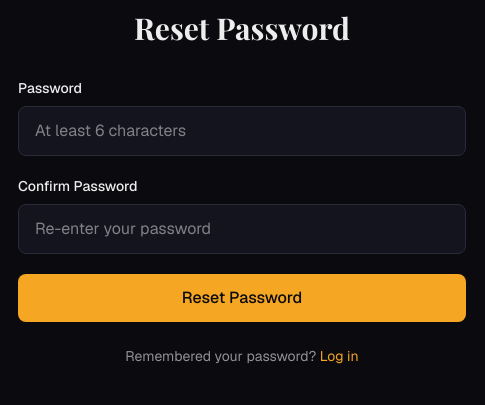
it: ResetPasswordPage › shows validation error for short password
Type "12345" into the password field labelled "Password" at (242, 131), box [18, 106, 466, 156]
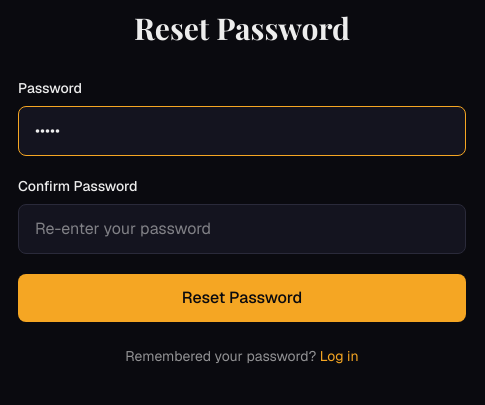
Type "12345" into the password field labelled "Confirm Password" at (242, 229), box [18, 204, 466, 254]
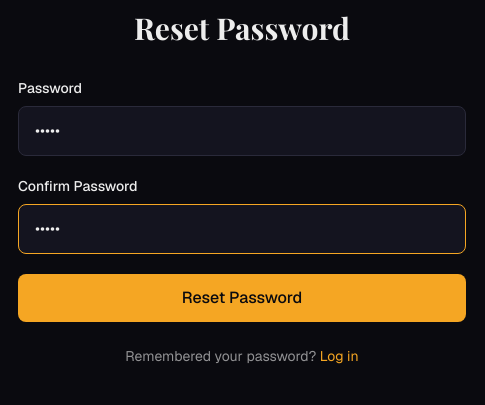
Click the button "Reset Password" at (242, 298), box [18, 274, 466, 322]
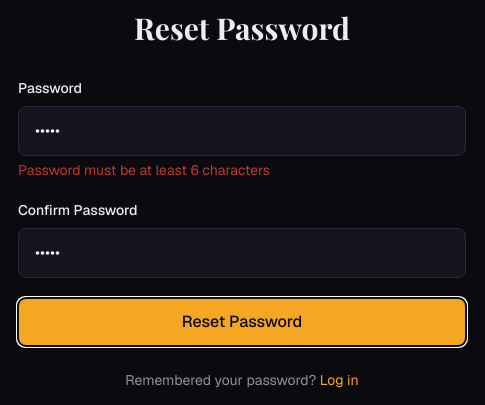
Check: the text "Password must be at least 6 characters" is shown, box [18, 161, 270, 179]
